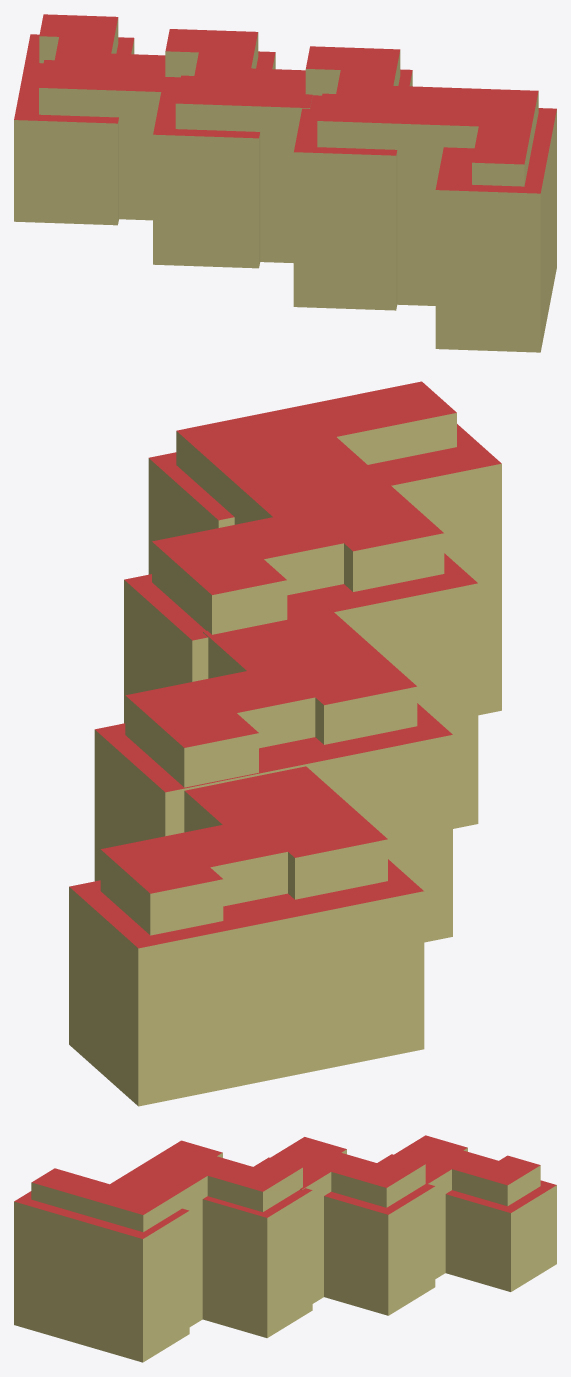
The picture shows the model from 3 angles, top to bottom: view 1: azimuth 30°, elevation 25°; view 2: azimuth 150°, elevation 25°; view 3: azimuth 270°, elevation 25°; orthographic projection. The views are drawn at different scales.
Parts seen in each view (by area): view 1: group_22, group_19, group_10, group_12, group_13, group_4, group_16, group_15, group_7, group_6, group_21, group_3 (+2 smaller); view 2: group_4, group_12, group_10, group_19, group_13, group_15, group_6, group_22, group_7, group_16, group_3, group_9 (+2 smaller); view 3: group_22, group_19, group_10, group_4, group_12, group_13, group_15, group_16, group_6, group_7, group_21, group_3 (+2 smaller).
Part boxes in pixels (x1,y1,x2,y2): group_22: (435,110,556,352); group_19: (293,71,412,310); group_10: (153,52,275,268); group_12: (306,46,538,164); group_13: (305,50,538,305); group_4: (14,39,134,225); group_16: (165,32,312,262); group_15: (165,29,312,107); group_7: (39,18,161,220); group_6: (39,14,165,91); group_21: (435,108,556,193); group_3: (14,34,134,123); group_4: (69,887,424,1106); group_12: (152,381,456,594); group_10: (94,730,452,942); group_19: (124,580,478,828); group_13: (152,413,456,634); group_15: (125,606,416,747); group_6: (101,766,387,893); group_22: (148,458,501,715); group_7: (100,791,387,935); group_16: (125,632,417,787); group_3: (69,859,423,948); group_9: (95,703,452,792); group_22: (14,1201,189,1362); group_19: (202,1190,312,1337); group_10: (324,1186,435,1315); group_4: (445,1185,556,1291); group_12: (32,1140,302,1214); group_13: (31,1152,302,1326); group_15: (270,1137,425,1189); group_16: (300,1149,425,1303); group_6: (394,1135,540,1185); group_7: (428,1148,540,1278); group_21: (14,1191,188,1238); group_3: (446,1180,556,1212).
Size of the model in its own units: 40.3 by 67.72 by 19.36.
